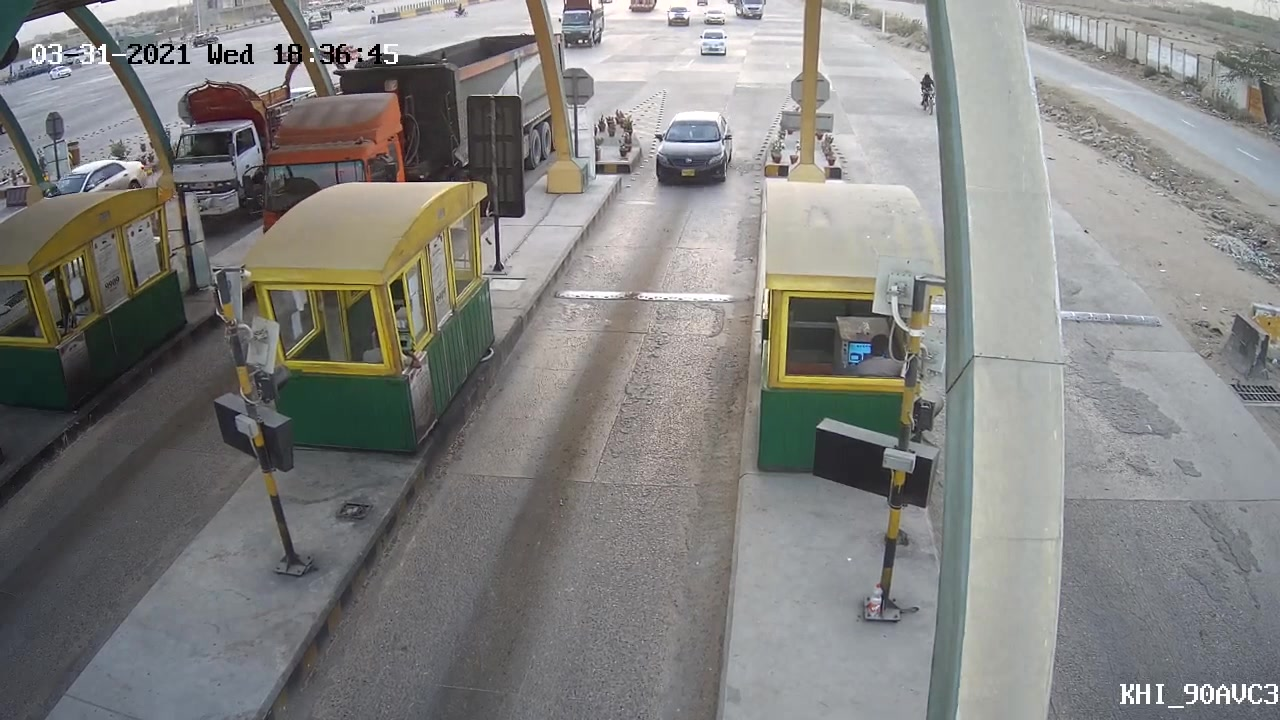F1: (647, 107, 743, 192)
